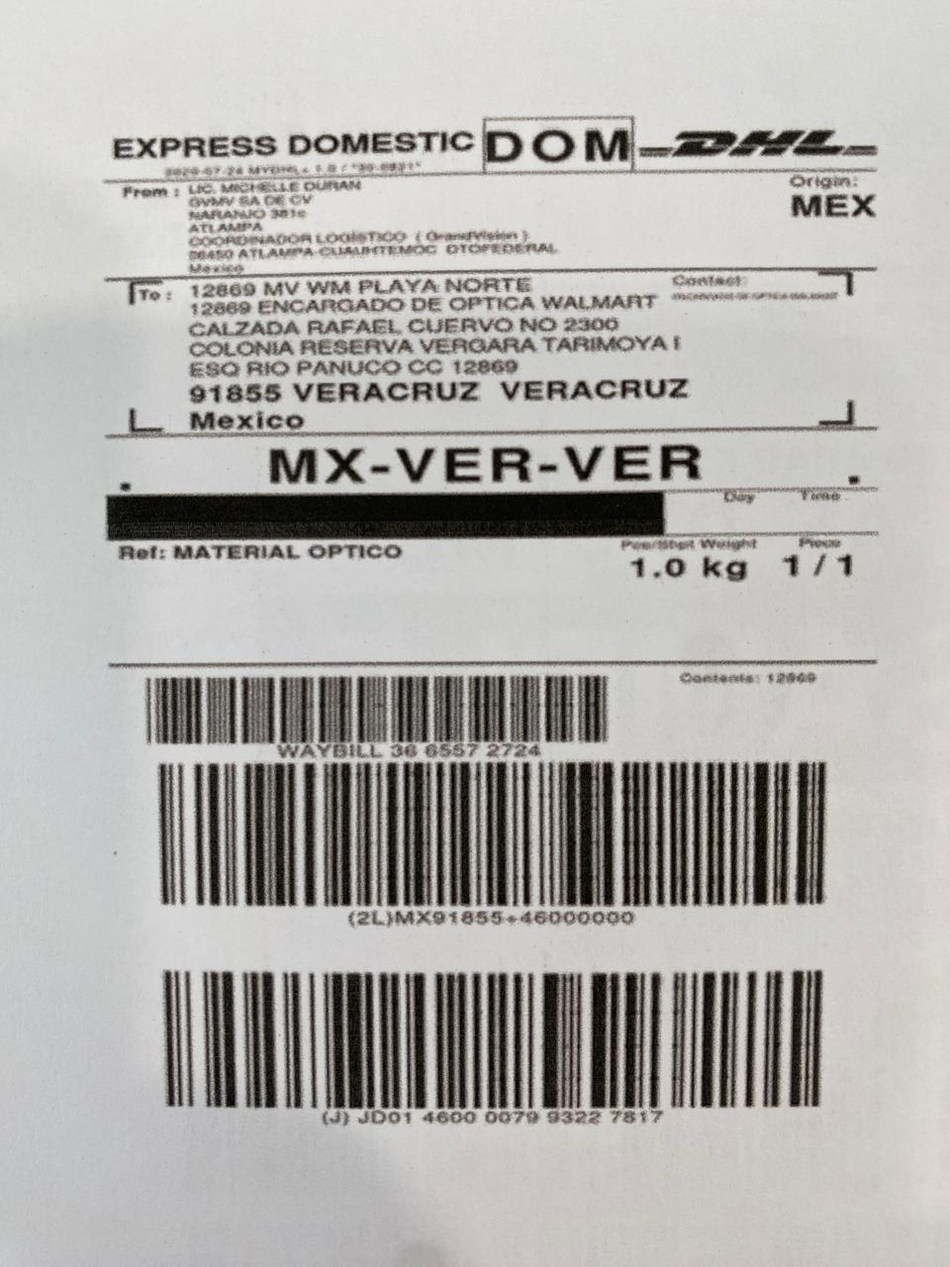waybill_text: (274, 739, 548, 762)
